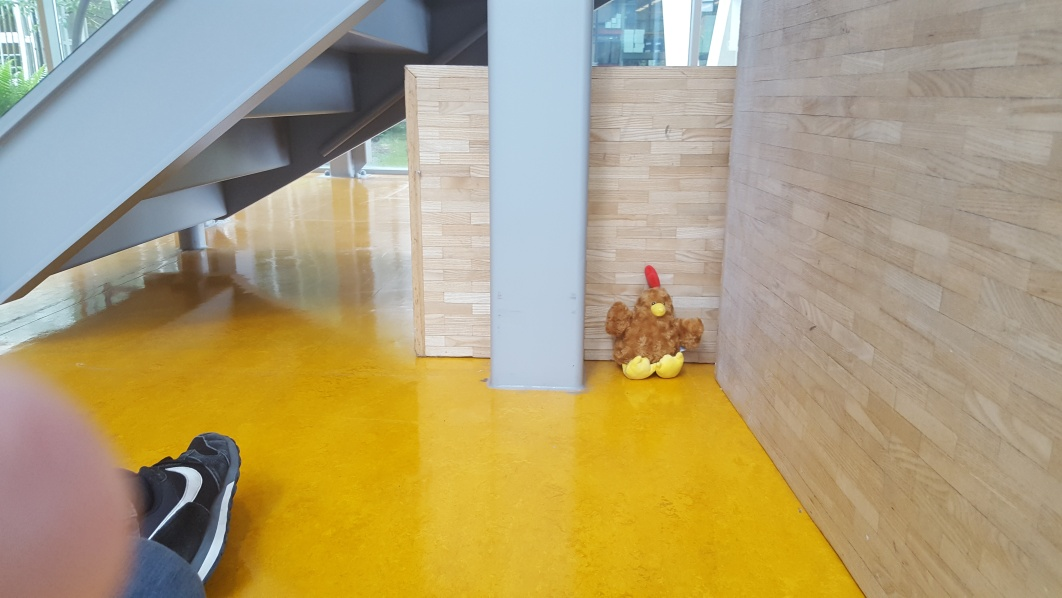chicken: (605, 264, 705, 380)
